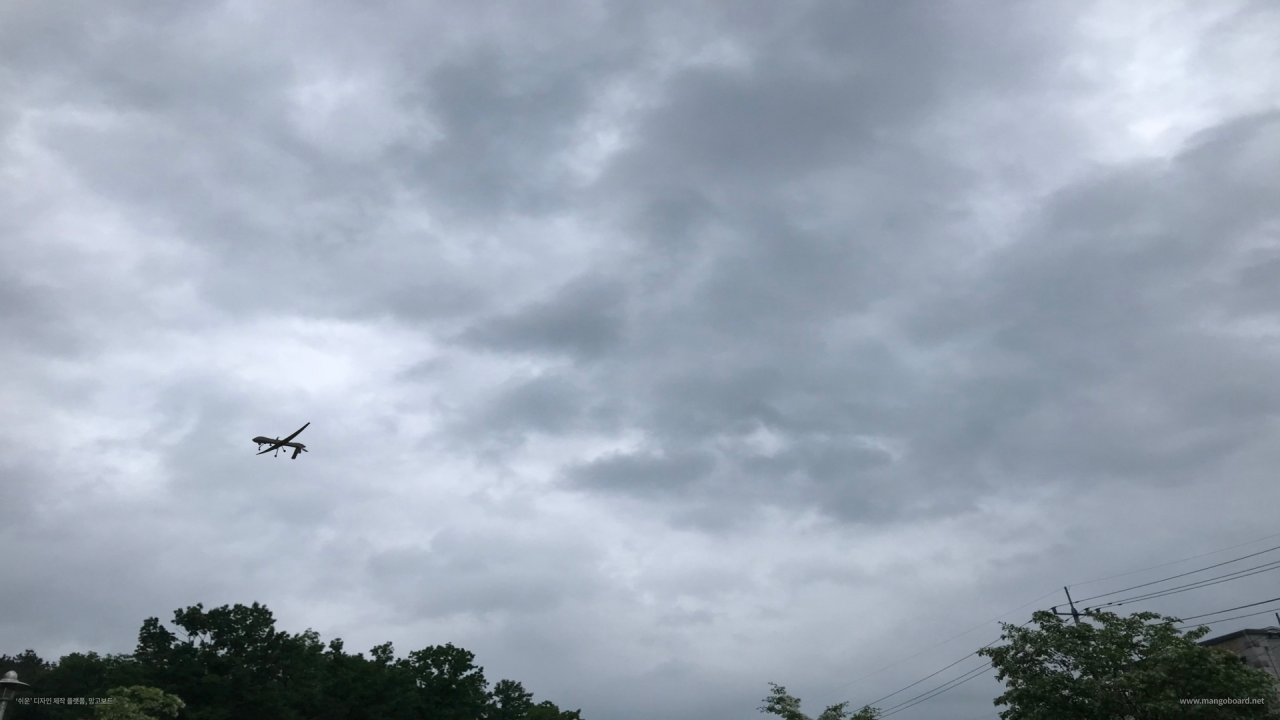military drone: (251, 422, 310, 460)
